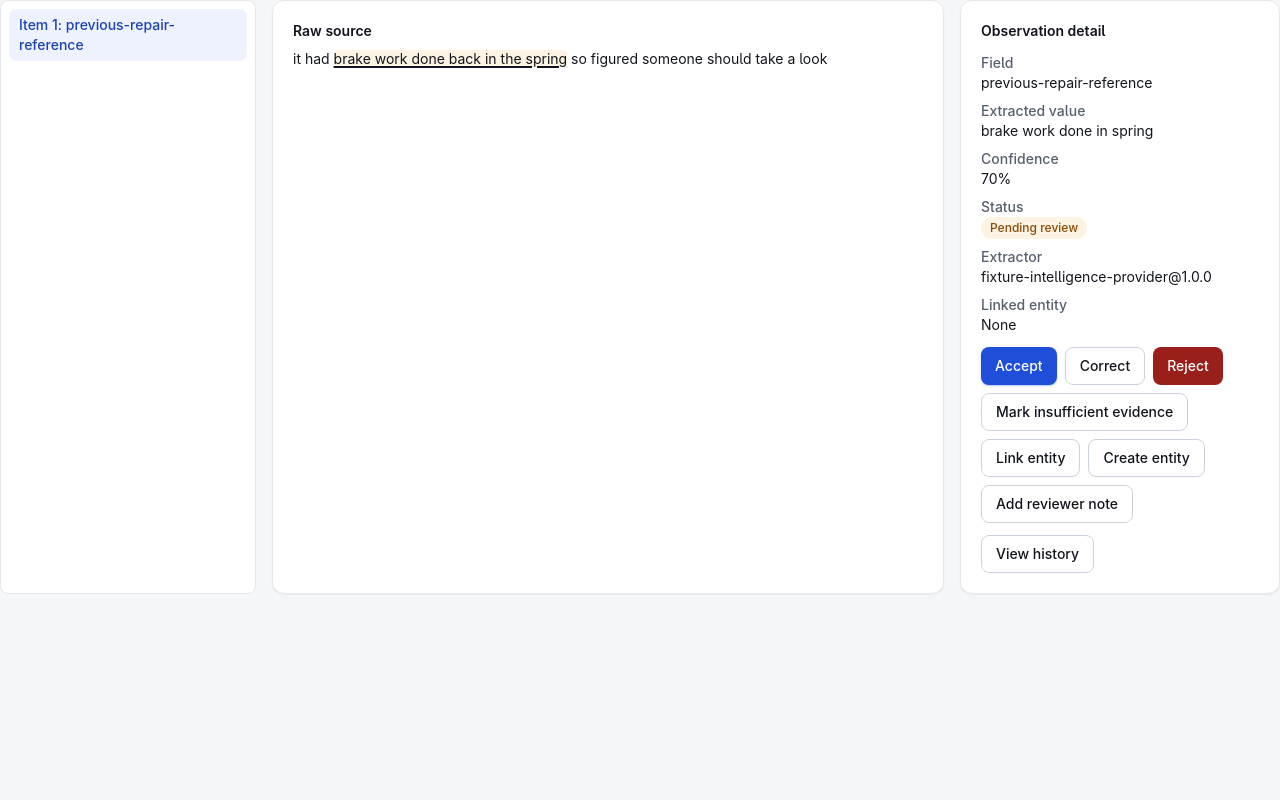
Scenario: ReviewQueuePanel › keeps the item selected and preserves the failed action's error instead of discarding it
Click the button "Accept" at (1019, 366), box [981, 347, 1057, 385]
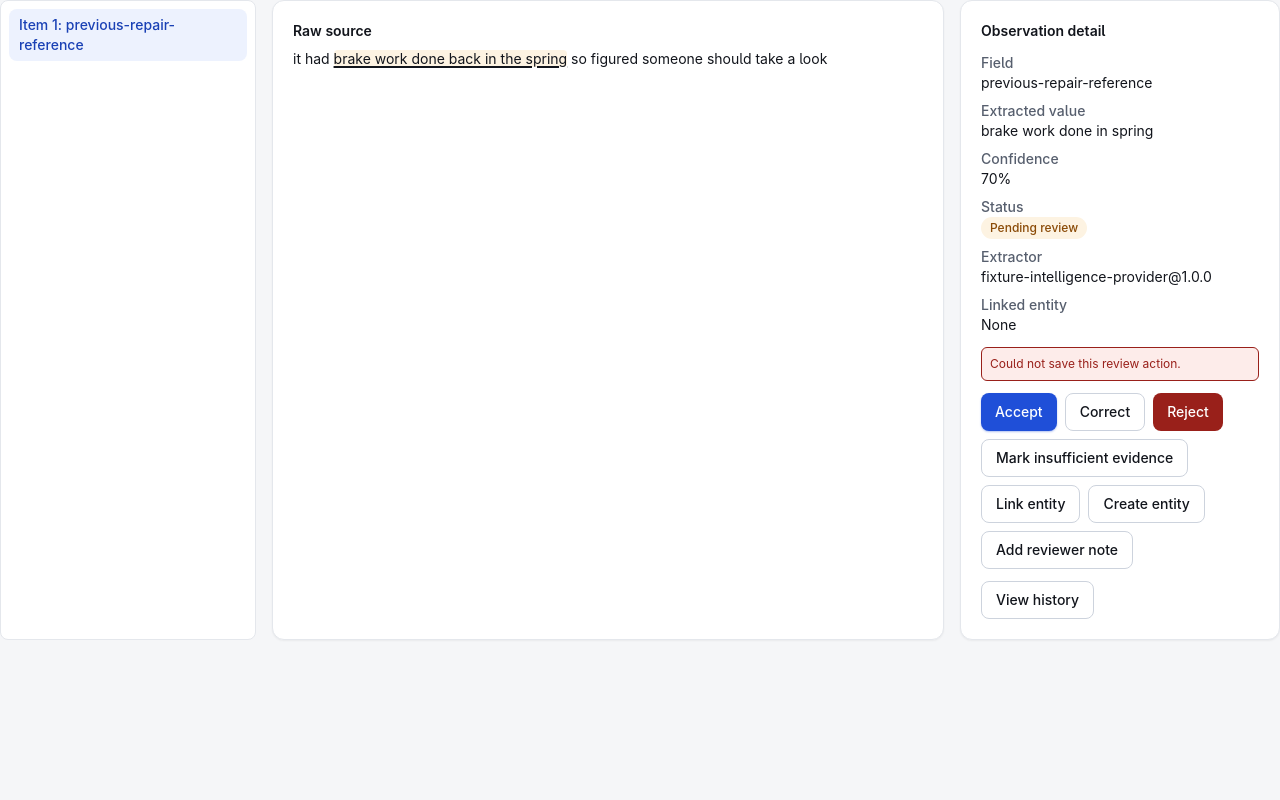
Expected: the text "previous-repair-reference" is shown, [981, 74, 1152, 91]
Now the message reads "Could not save this review action.", box [990, 356, 1181, 371]
